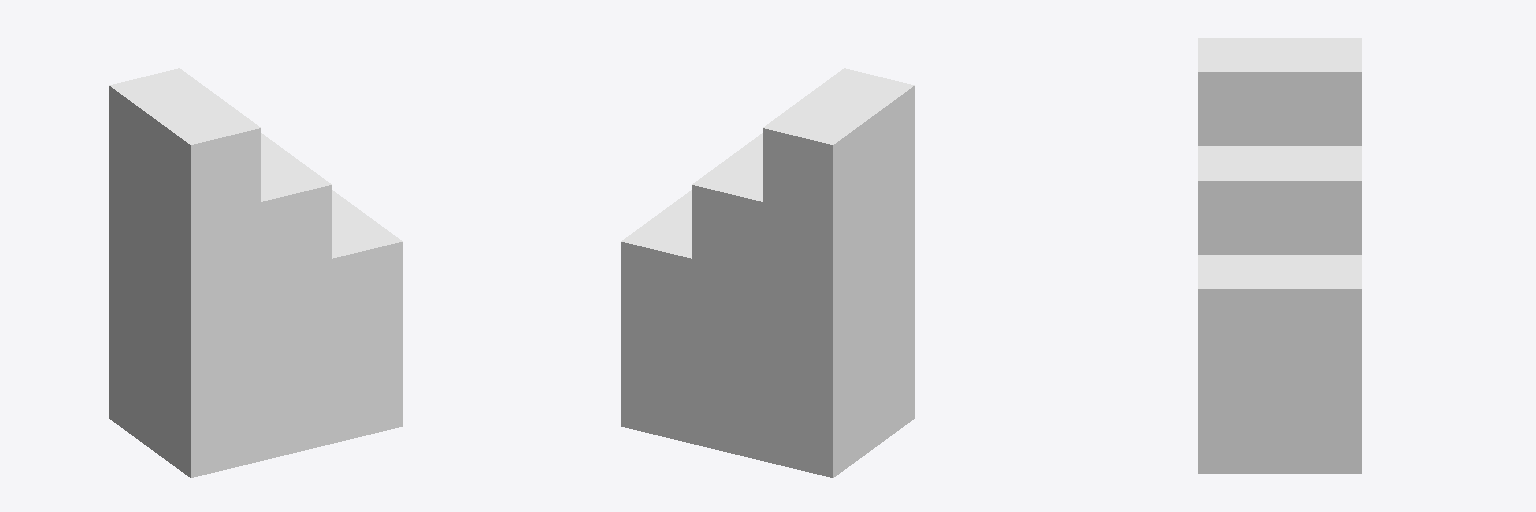
The model's file is ZIBU_Original_Animation_Ready-6.obj.
3 views of the same model, side by side, from view 1: azimuth 30°, elevation 25°; view 2: azimuth 150°, elevation 25°; view 3: azimuth 270°, elevation 25° (orthographic).
Parts seen in each view (by area): view 1: object 1; view 2: object 1; view 3: object 1.
Part boxes in pixels (x1,y1,x2,y2): object 1: (109,68,402,477); object 1: (621,68,914,477); object 1: (1198,38,1361,473).
Size of the model in its own units: 0.6 by 0.9 by 0.4.